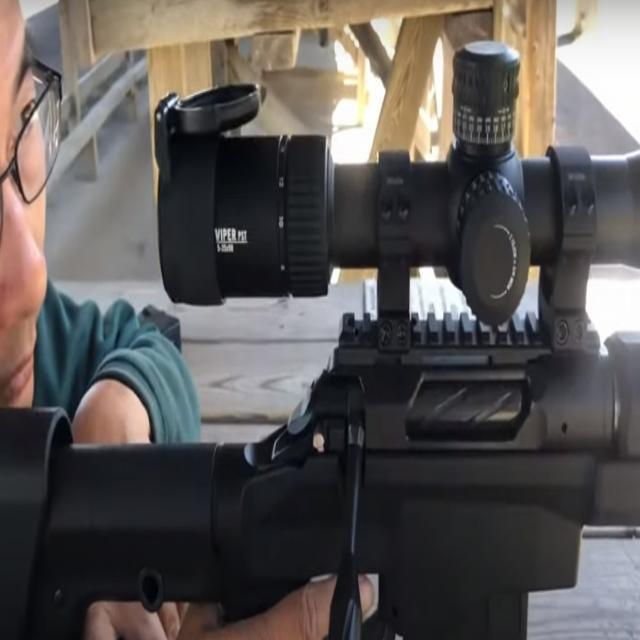rifle: (4, 38, 638, 634)
